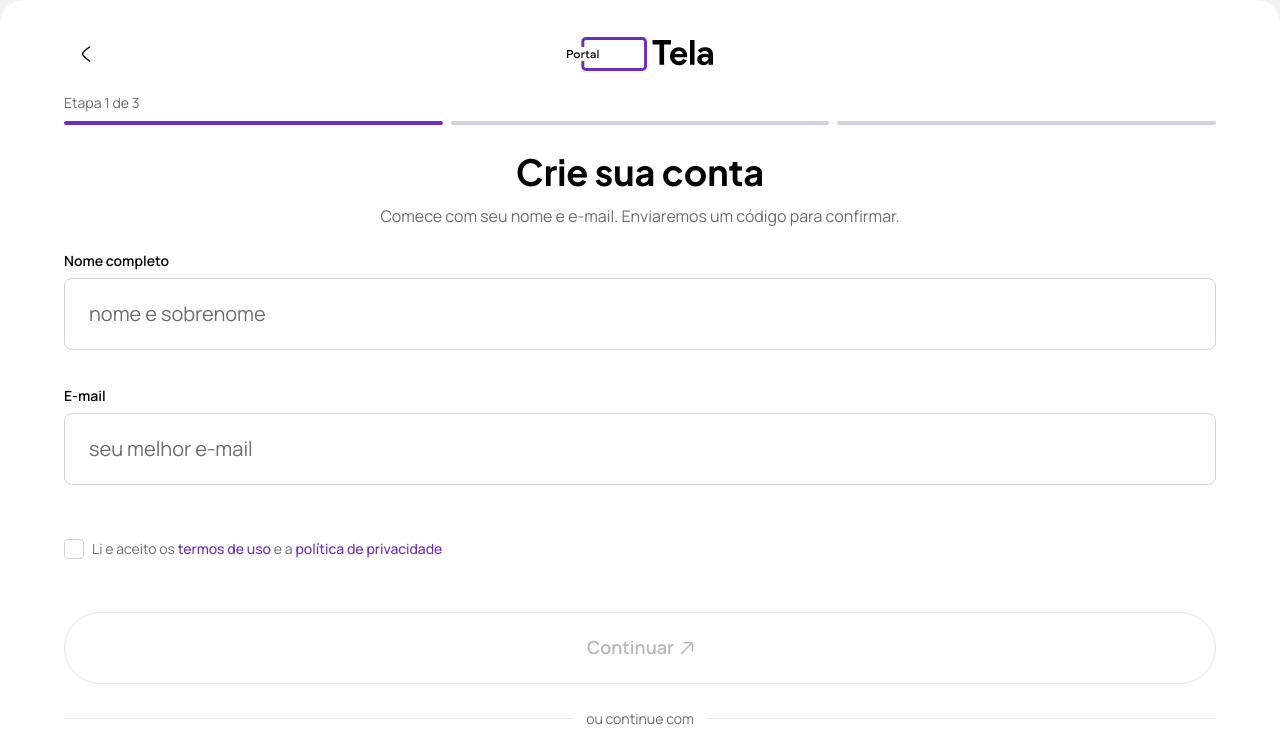
Test: SignUpPage › nome precisa de sobrenome; o erro de cada campo aparece ao sair dele
Type "Ana" into the field labelled "Nome completo". click: (640, 314)
box: [89,299,1191,329]
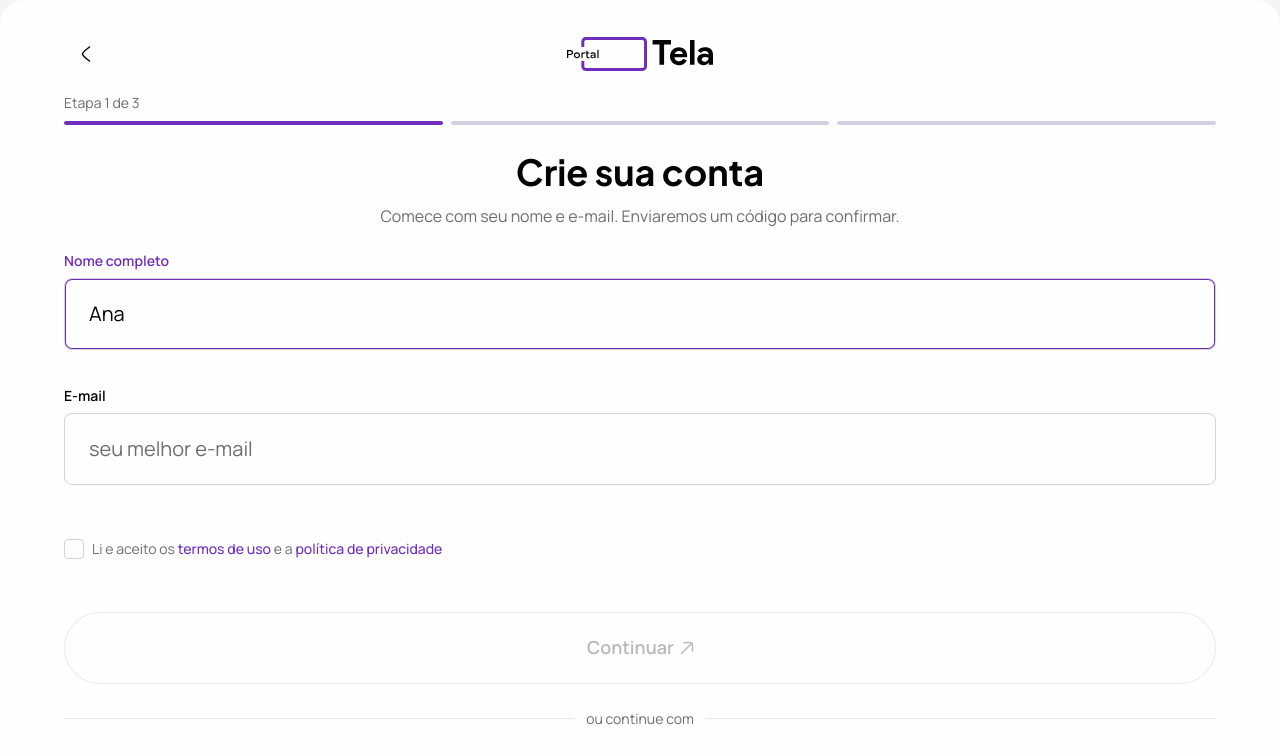
Press Tab
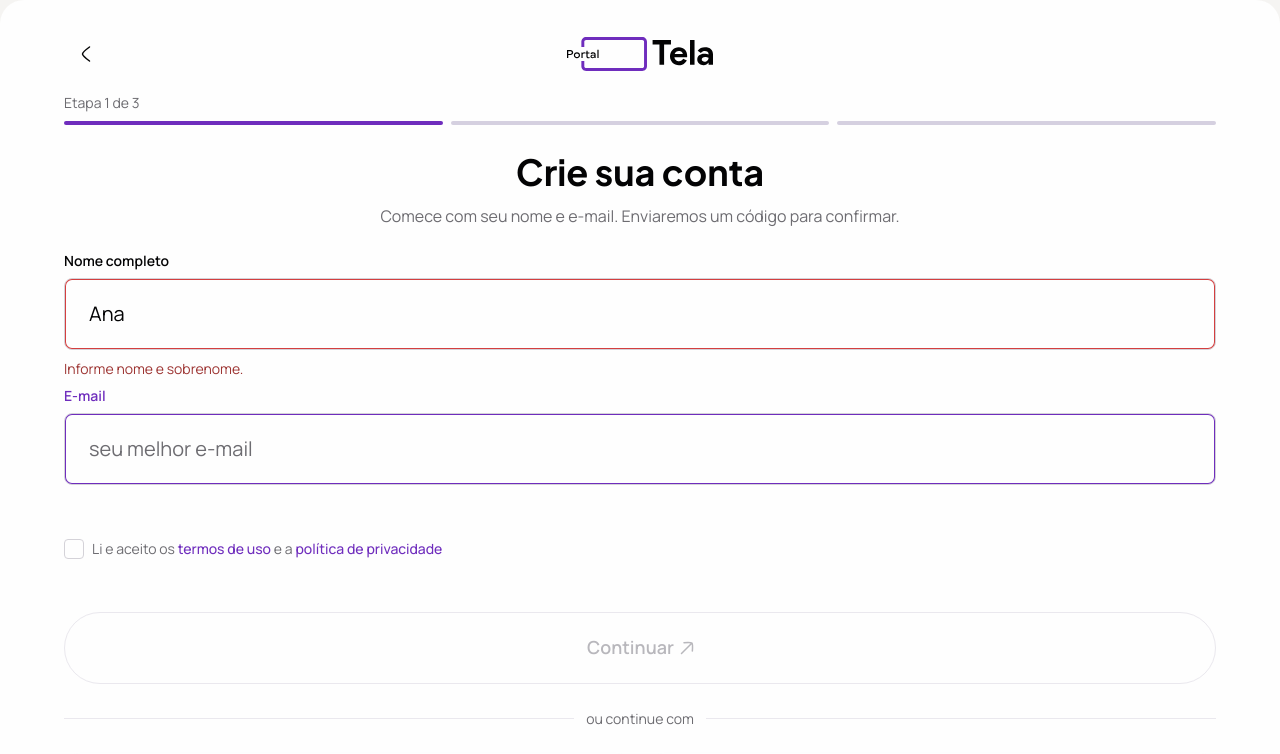
Now the text "Informe nome e sobrenome." is shown, box [64,359,243,378]
Type " Souza" into the field labelled "Nome completo". click: (640, 314)
box: [89,299,1191,329]
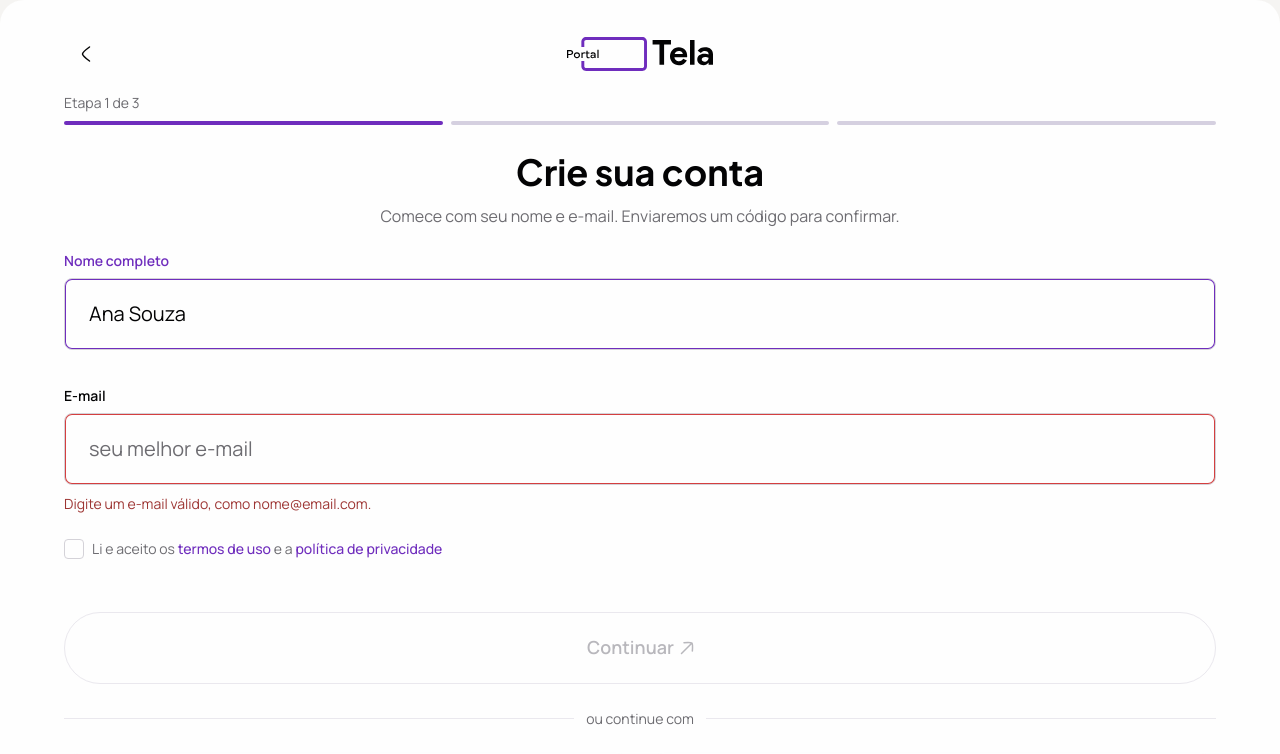
Now the text "Informe nome e sobrenome." is gone
